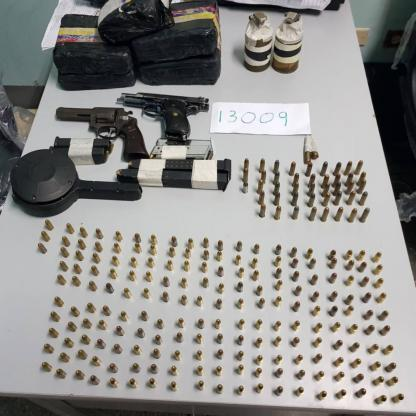Grenade: (271, 11, 305, 74), (242, 12, 273, 72)
Pistol: (55, 102, 150, 161), (118, 90, 212, 142)
